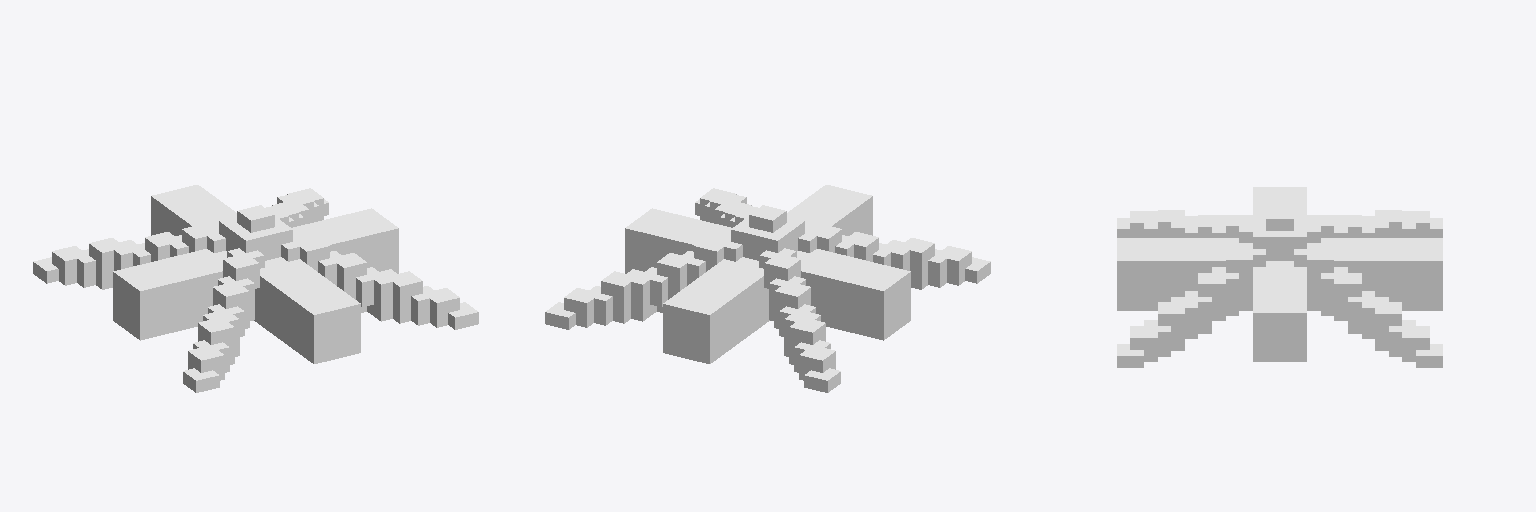
The model's file is Campfire01.obj.
3 views of the same model, side by side, from view 1: azimuth 30°, elevation 25°; view 2: azimuth 150°, elevation 25°; view 3: azimuth 270°, elevation 25° (orthographic).
Parts seen in each view (by area): view 1: object 1; view 2: object 1; view 3: object 1.
Part boxes in pixels (left/top/right/bottom): object 1: left=33, top=185, right=478, bottom=392; object 1: left=545, top=185, right=990, bottom=392; object 1: left=1117, top=187, right=1442, bottom=367.
Bounding box in the file's own units: 2.4 × 0.7 × 2.4.